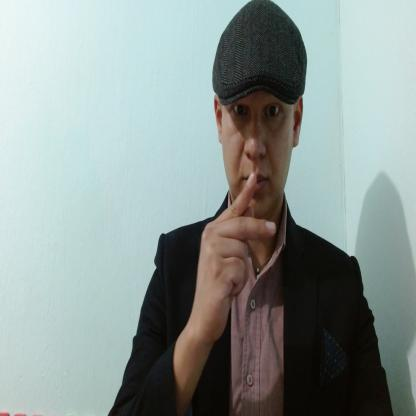P: (194, 171, 277, 342)
